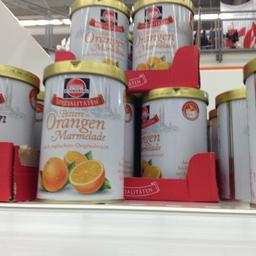jam: (36, 58, 126, 204), (138, 86, 209, 178), (130, 0, 193, 69), (66, 0, 127, 67)
